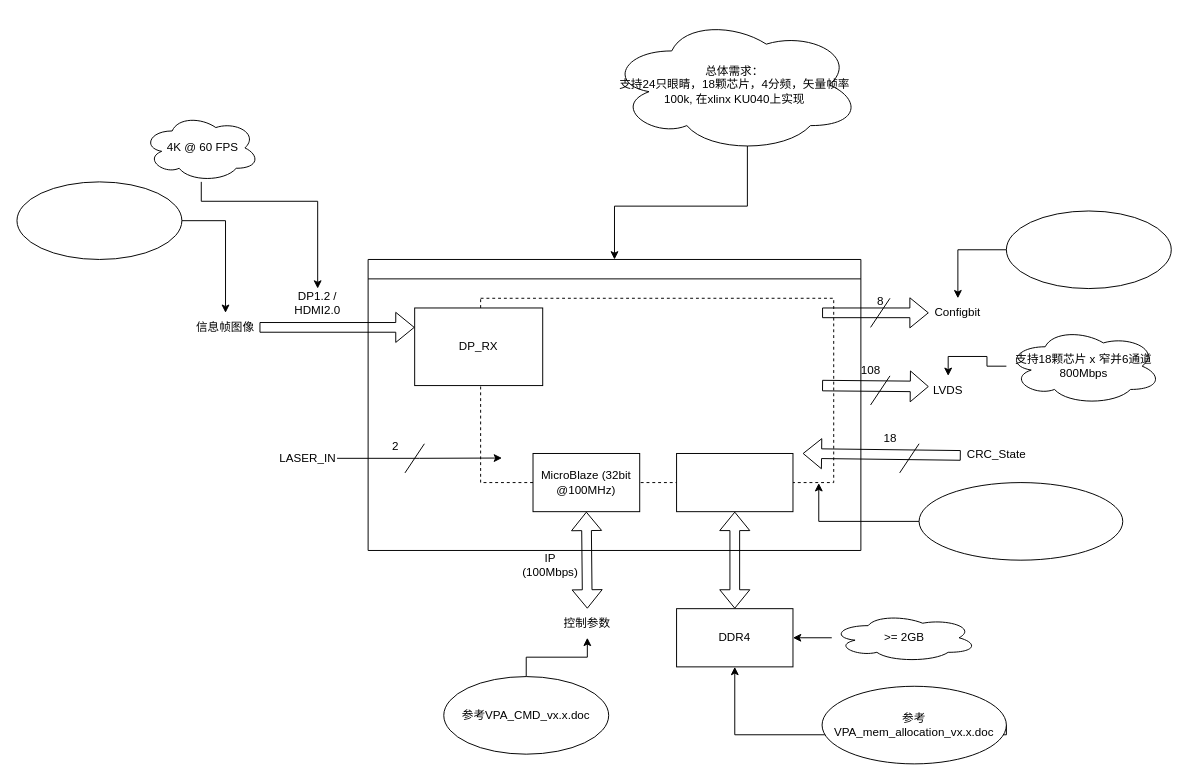
Some shapes in this 1188 by 781 pixel diagram are drawn without their labels. The box of each missing label's shape, as (x1, y1, x2, y2) in pixels:
18颗芯片共享，参考MicroLed chip spec v0.8.pdf: (1005, 210, 1171, 289)
DDR4 SDRAM (MIG) 2.2: (676, 453, 793, 512)
vector_pixel_adaptor (VPA1.0): (367, 259, 861, 550)
“架子”格式参考VPA_scan_framework_vx.x.doc: (918, 482, 1123, 560)
参考VPA_frame_stucture_vx.x.doc: (16, 181, 182, 259)
